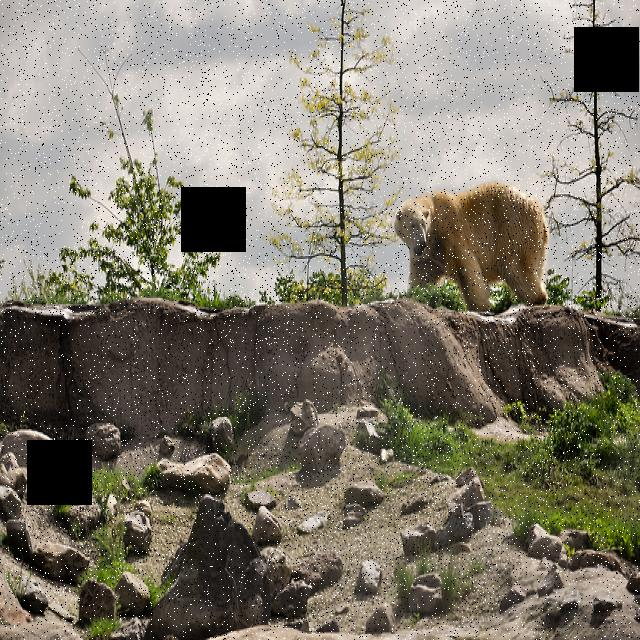Bear: (393, 171, 553, 309)
